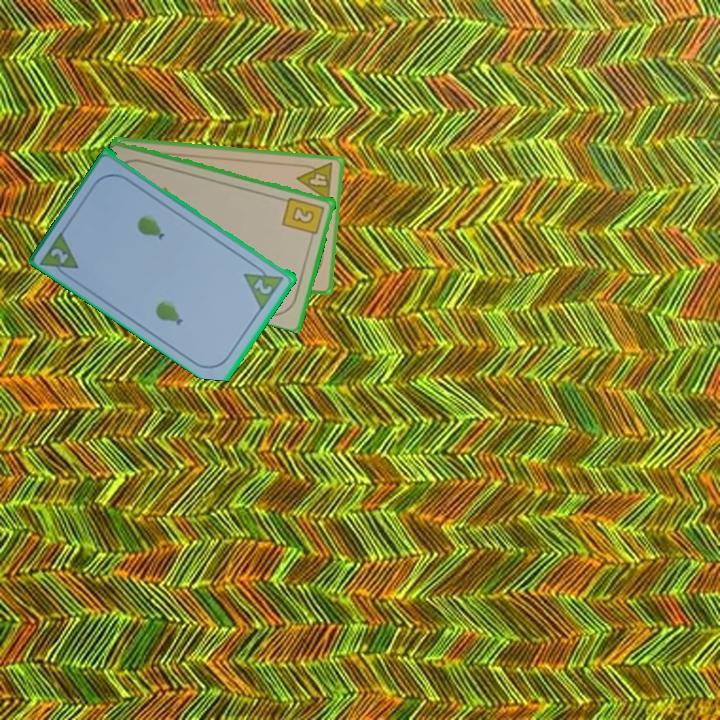2b: (279, 193, 327, 243)
2p: (47, 244, 72, 267), (251, 275, 276, 297)
4p: (294, 159, 336, 204)
